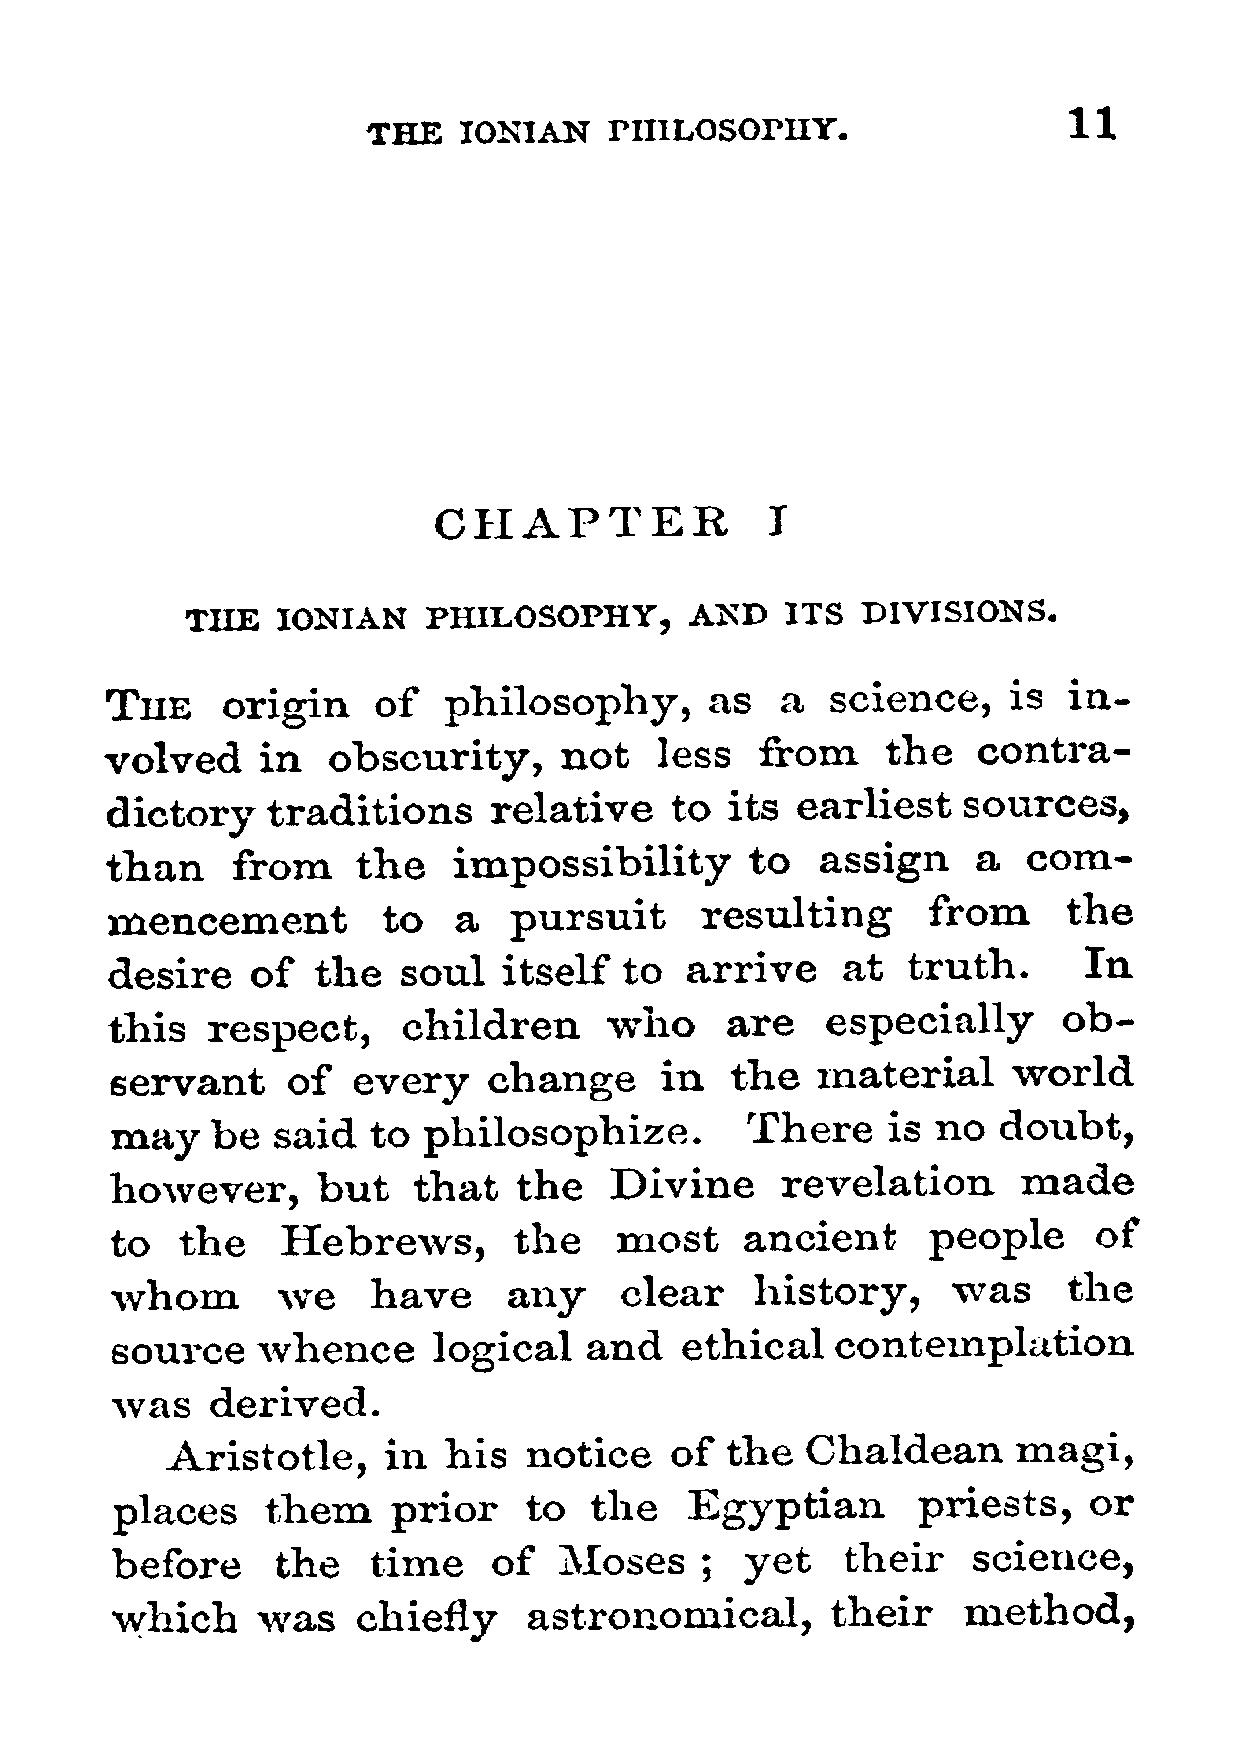chapter: (180, 502, 1059, 636), (361, 117, 854, 148)
content: (101, 676, 1147, 1644)
content_pagenumber: (1064, 102, 1121, 144)
